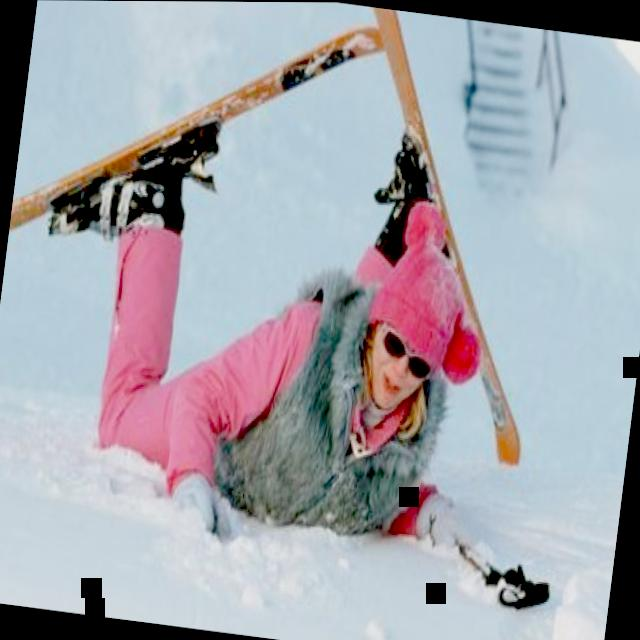Fall-Detected: (0, 57, 584, 602)
